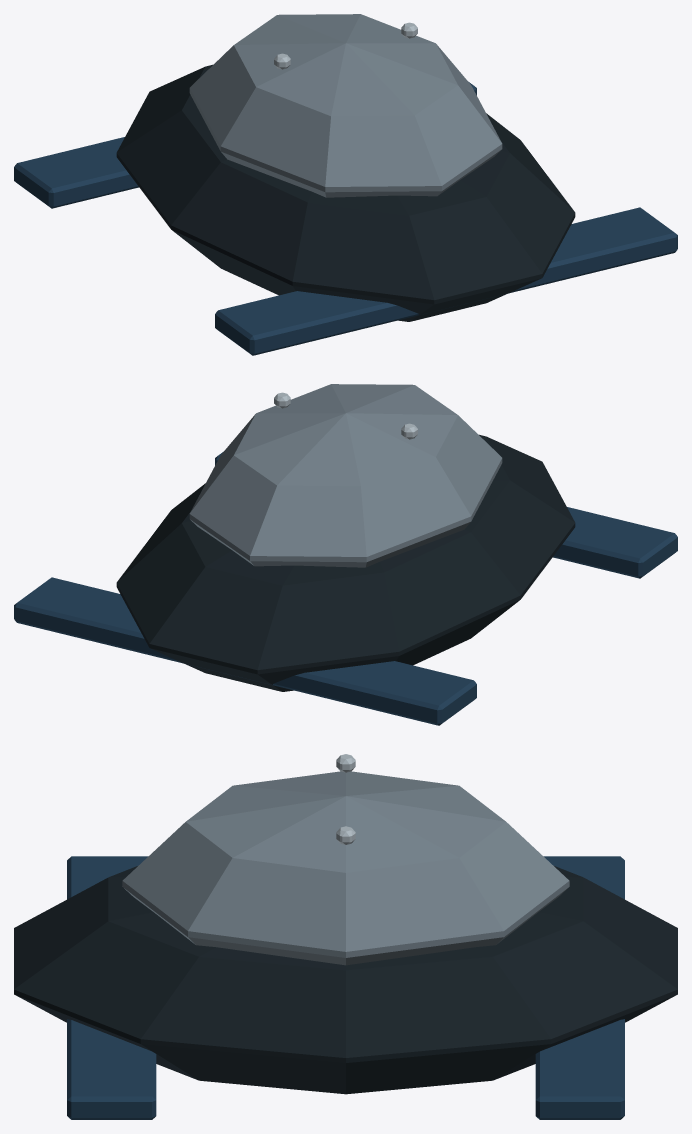
The model's file is b17_skate_elbow_guard.glb.
The picture shows the model from 3 angles, top to bottom: view 1: azimuth 30°, elevation 25°; view 2: azimuth 150°, elevation 25°; view 3: azimuth 270°, elevation 25°; orthographic projection. The views are drawn at different scales.
Parts seen in each view (by area): view 1: b17_skate_elbow_guard; view 2: b17_skate_elbow_guard; view 3: b17_skate_elbow_guard.
Boxes of the visible parts, <box> form: b17_skate_elbow_guard: <box>14,14,677,355</box>; b17_skate_elbow_guard: <box>14,384,677,725</box>; b17_skate_elbow_guard: <box>14,754,677,1119</box>.
Size of the model in its own units: 0.155 by 0.076 by 0.1786.
